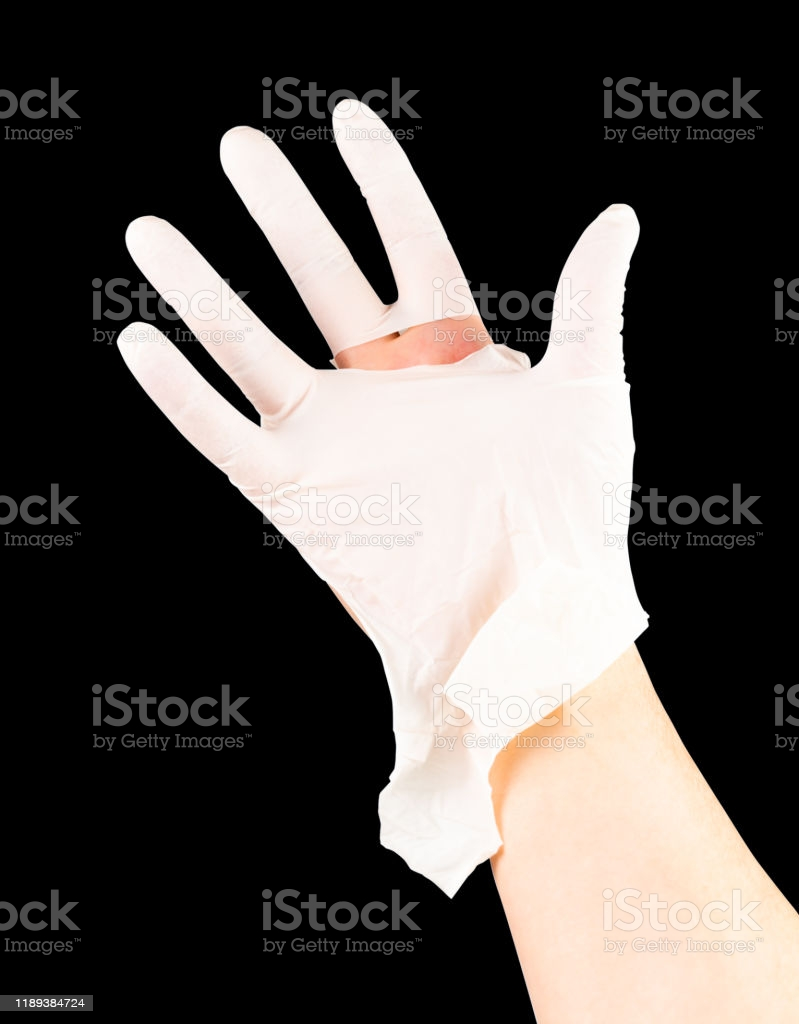defected: (78, 114, 715, 841)
